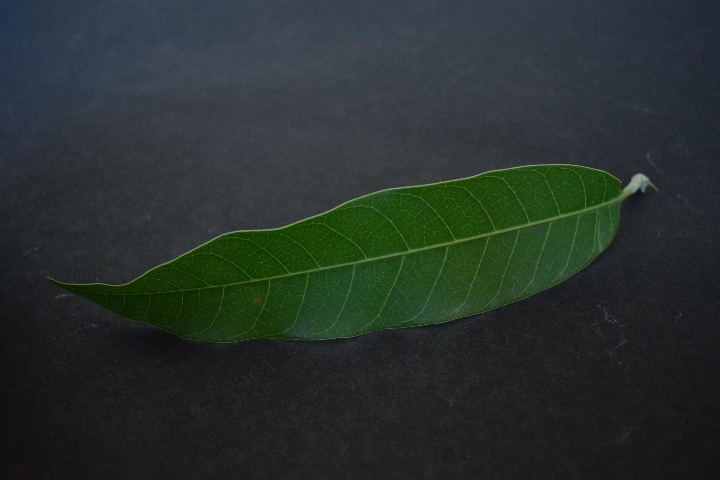healthy: (97, 167, 628, 354)
